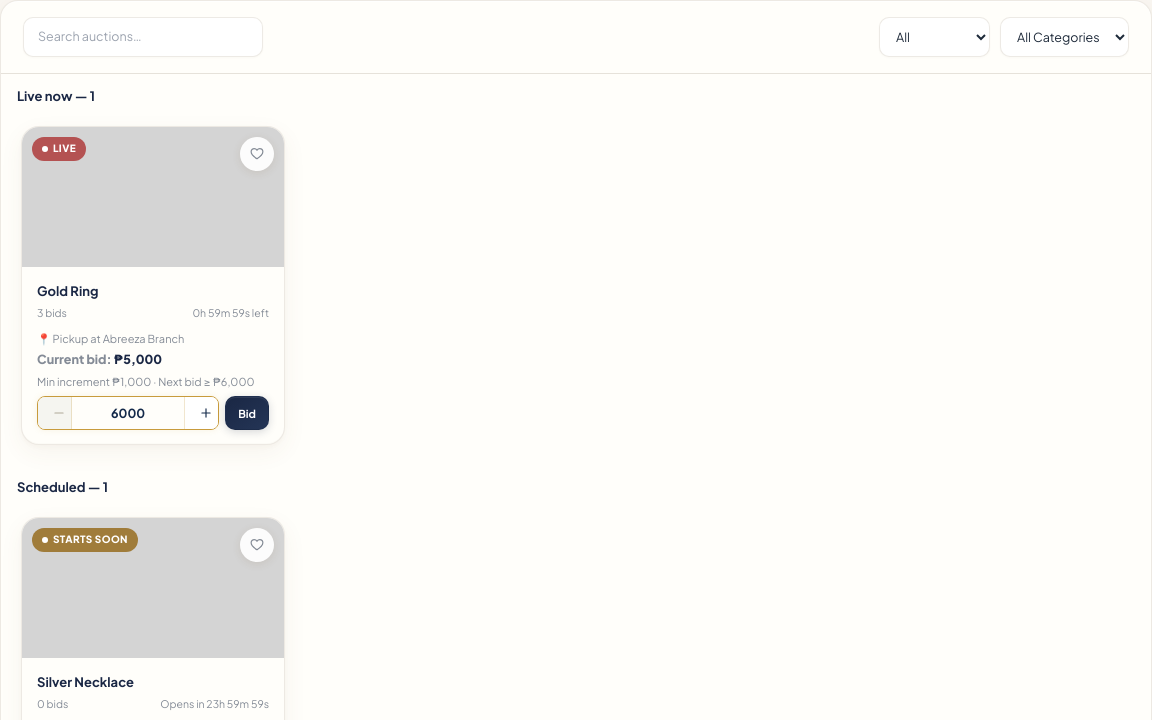
Test: Customer Auctions page › Scheduled filter only shows scheduled
The width and height of the screenshot is (1152, 720).
Expected: the heading "Gold Ring" is shown, [37, 283, 98, 299]
Select "Scheduled" in the dropdown named "Filter by status" at (934, 37), box [879, 17, 990, 57]
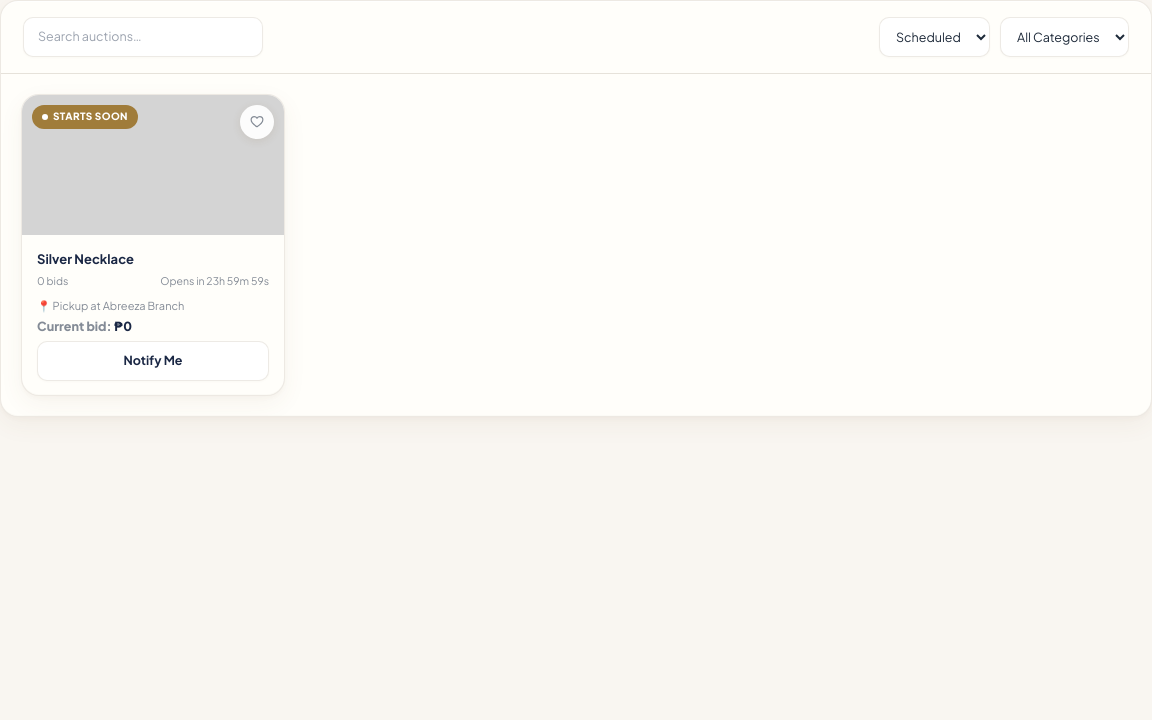
Expected: the heading "Silver Necklace" is shown, [37, 251, 134, 267]
Result: the heading "Gold Ring" is gone
